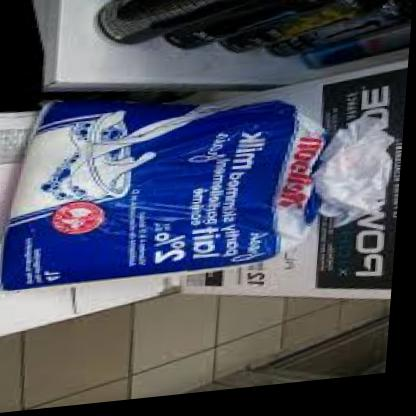Plastic: (0, 57, 399, 315)
